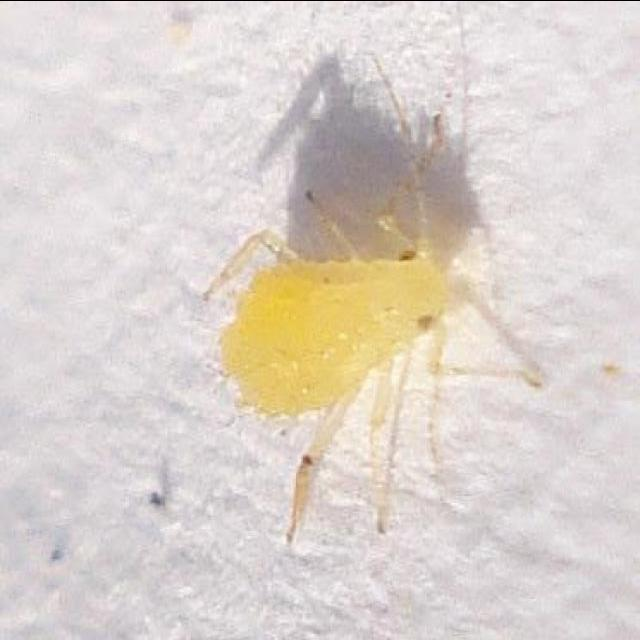aphid: (170, 114, 563, 536)
